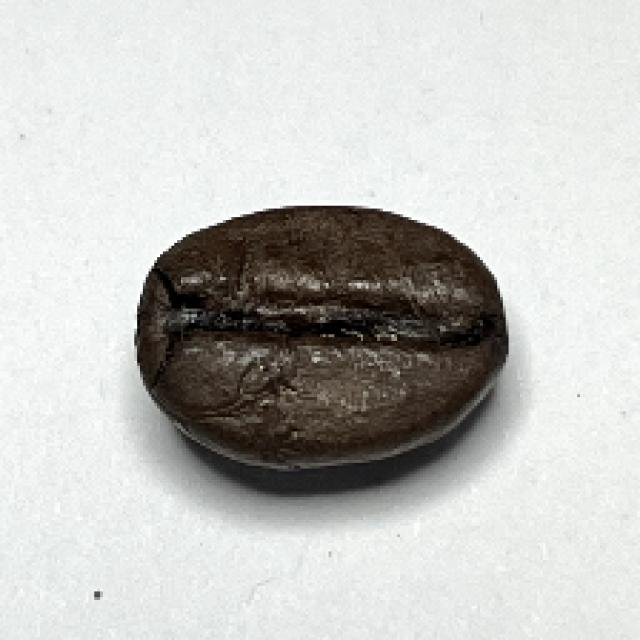bean: (128, 200, 513, 471)
